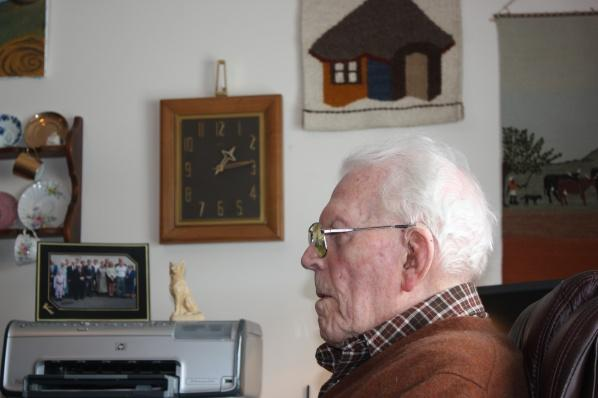Printer: (0, 318, 263, 397)
